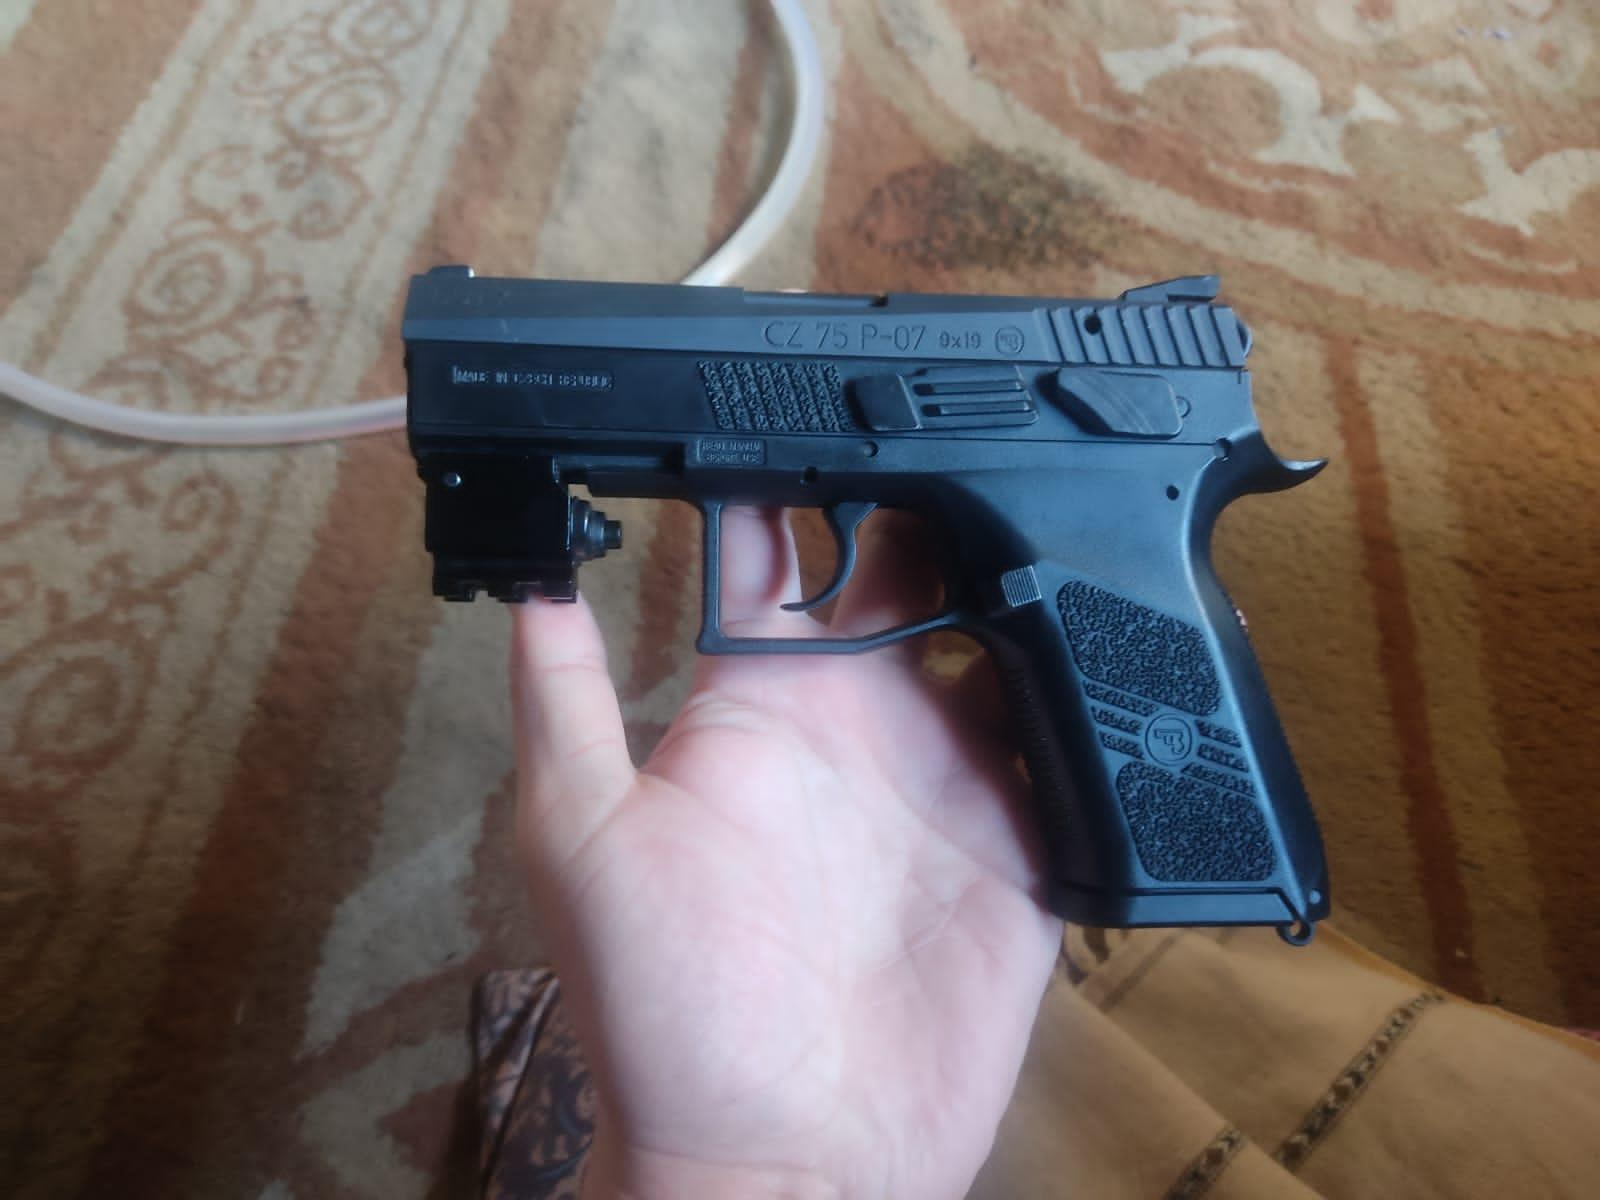weapon: (401, 268, 1327, 944)
